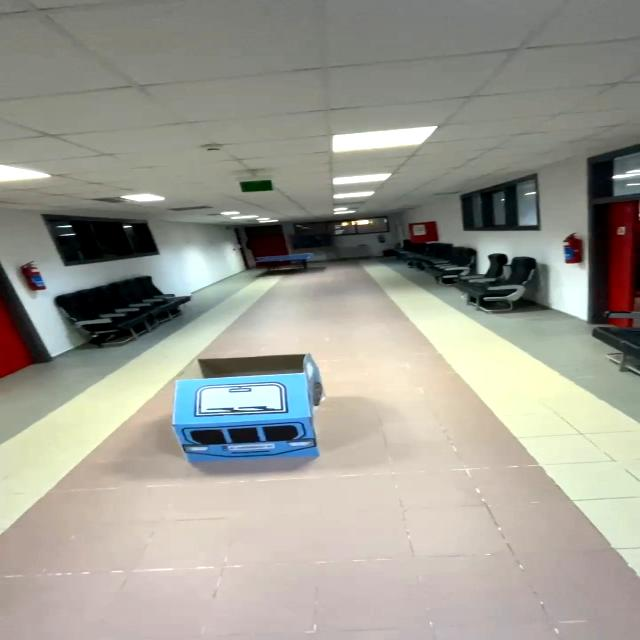blue_car: (112, 343, 373, 499)
